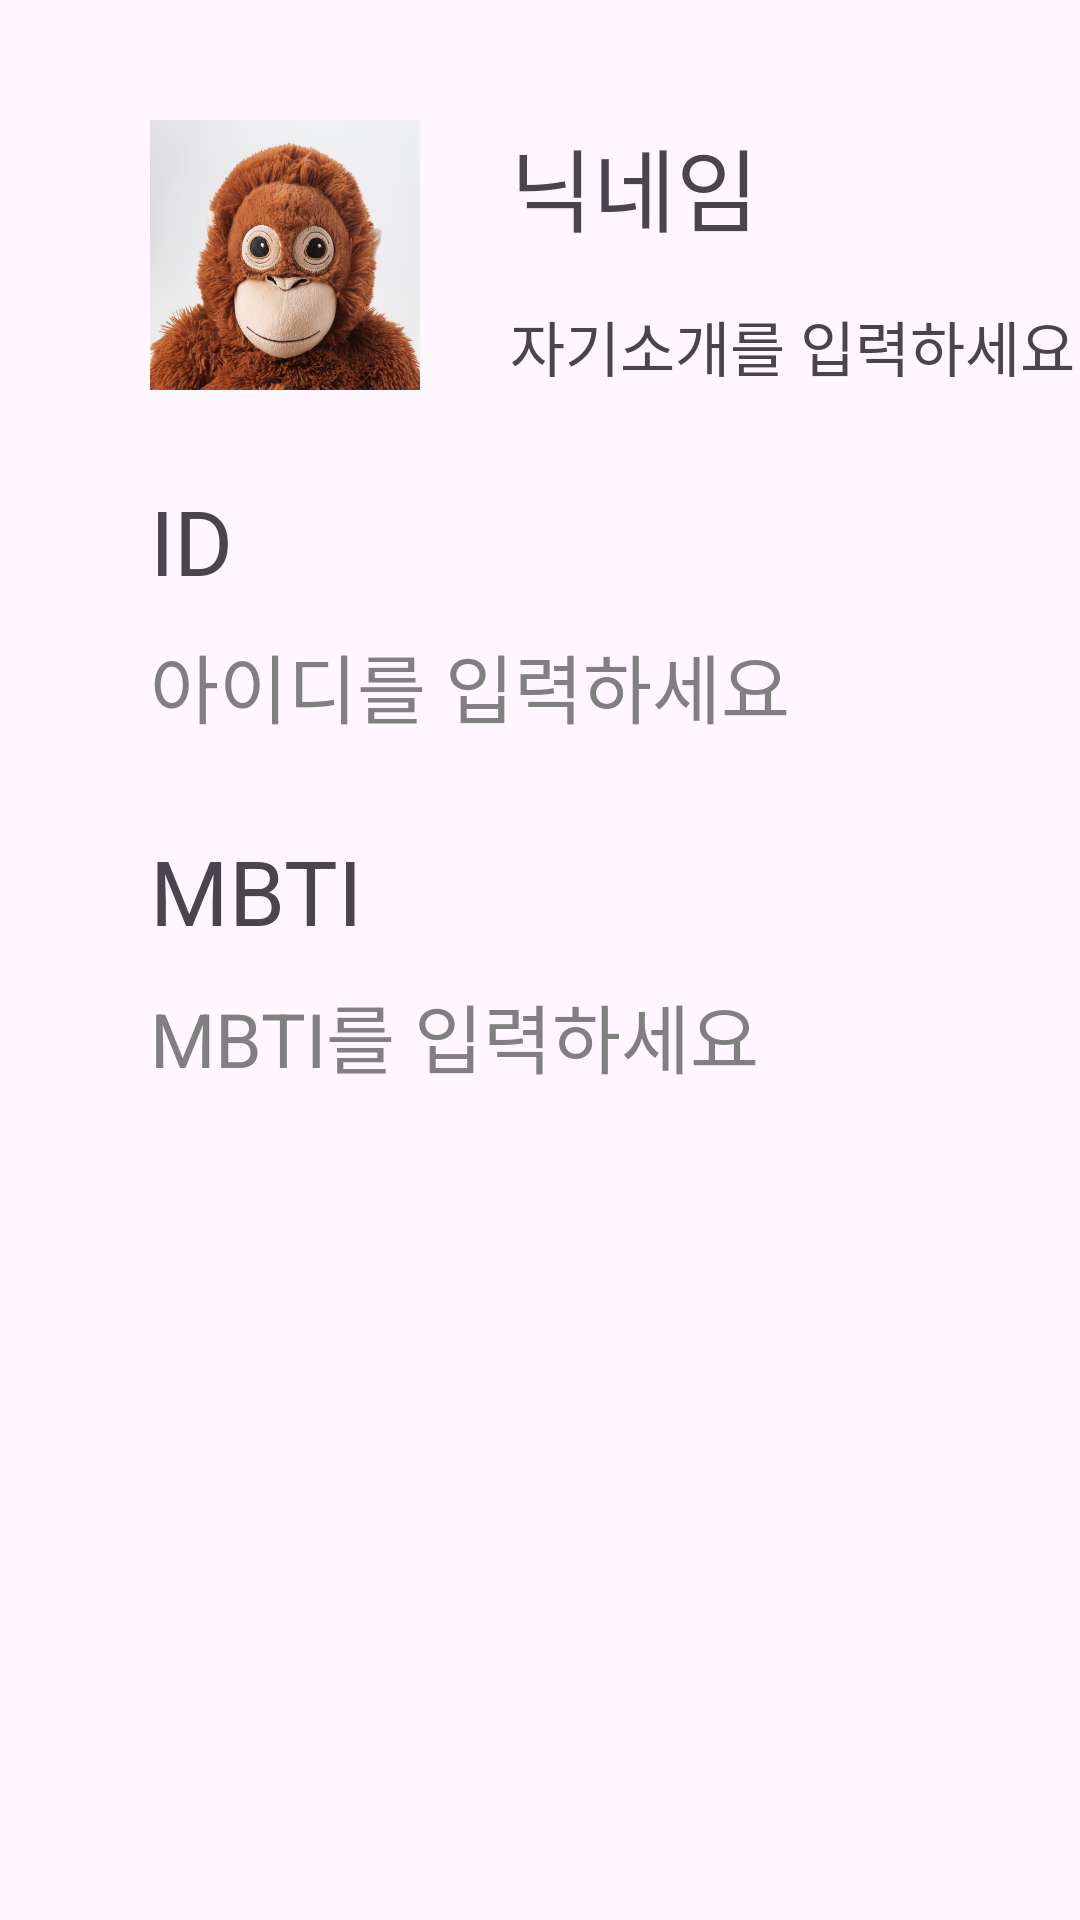

Screen size 1080x1920. Icon name, then its box in pixels as (x1, y1, x2, y2):
monkey: (150, 120, 420, 390)
